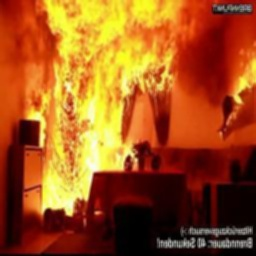fire: (10, 1, 248, 180)
